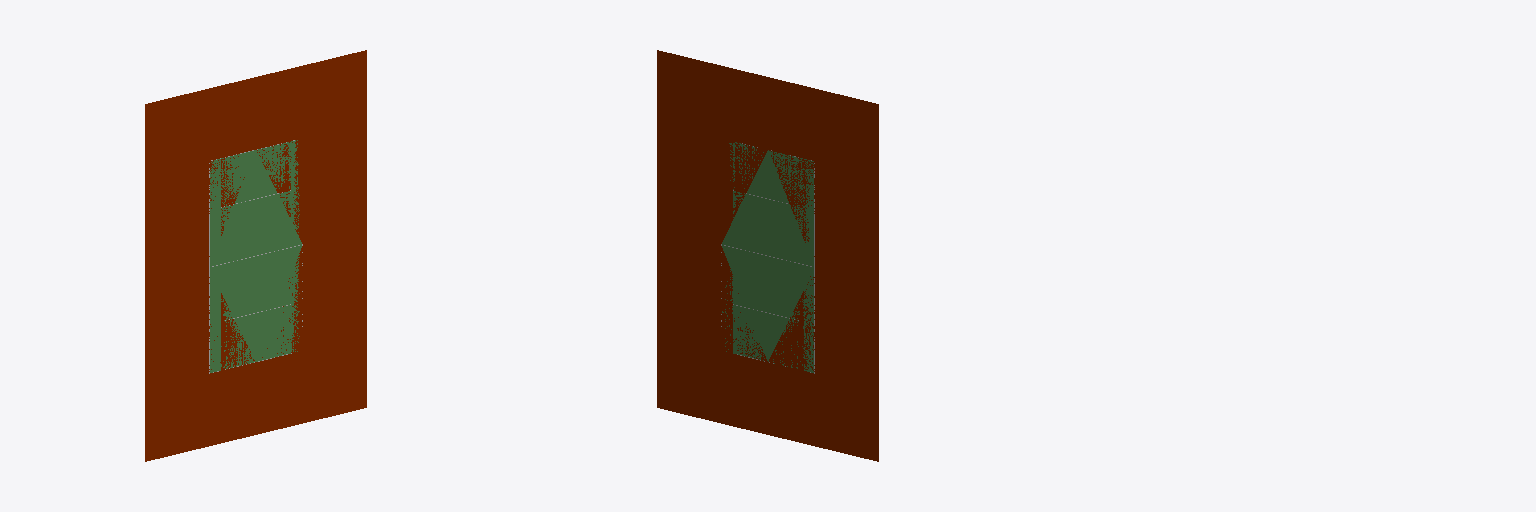
3 renders of one model, left to right at view 1: azimuth 30°, elevation 25°; view 2: azimuth 150°, elevation 25°; view 3: azimuth 270°, elevation 25°, orthographic.
Parts seen in each view (by area): view 1: Out_Plane.002, Playing_Green_Plane.001; view 2: Out_Plane.002, Playing_Green_Plane.001; view 3: none.
Boxes of the visible parts, <box> form: Out_Plane.002: <box>145,50,366,461</box>; Playing_Green_Plane.001: <box>210,140,301,372</box>; Out_Plane.002: <box>657,50,878,461</box>; Playing_Green_Plane.001: <box>722,142,813,372</box>.
Bounding box in the file's own units: 26 × 40 × 0.
Materials: 3 (2 with a texture image).